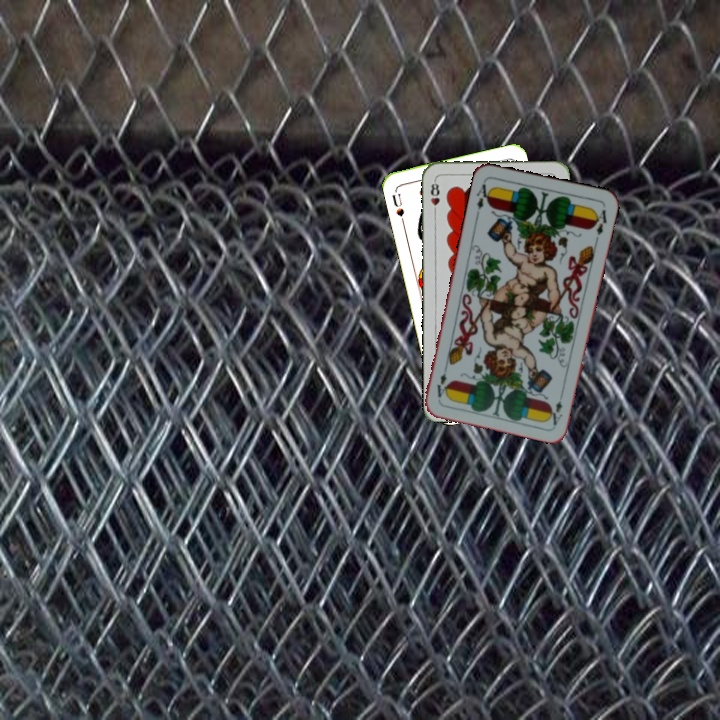EA: (546, 388, 566, 428), (472, 177, 494, 212)
H8: (427, 176, 442, 217)
SU: (388, 189, 407, 226)
